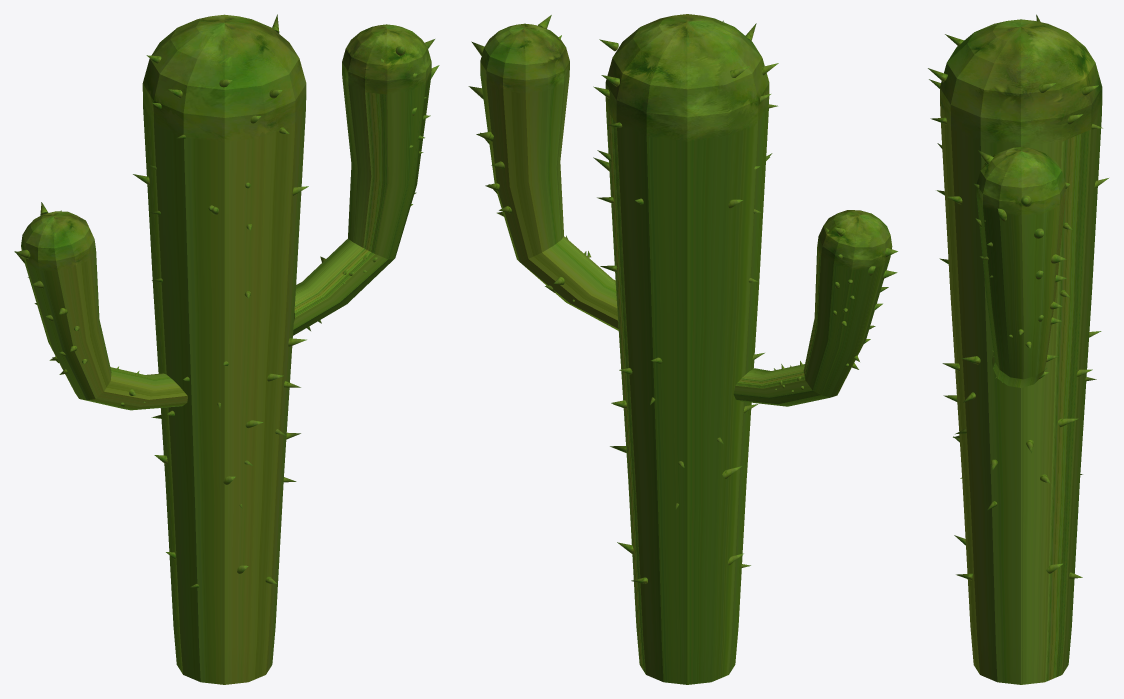
File: cactus_one.obj
The picture shows the model from 3 angles, left to right: view 1: azimuth 30°, elevation 25°; view 2: azimuth 150°, elevation 25°; view 3: azimuth 270°, elevation 25°; orthographic projection.
Visible parts, largest first — view 1: polySurface12; view 2: polySurface12; view 3: polySurface12.
Boxes of the visible parts, bbox=[...] form: polySurface12: bbox=[14, 14, 439, 684]; polySurface12: bbox=[468, 14, 897, 684]; polySurface12: bbox=[928, 14, 1108, 684].
Bounding box in the file's own units: 2.68 × 3.88 × 1.01.
Materials: 5 (5 with a texture image).
